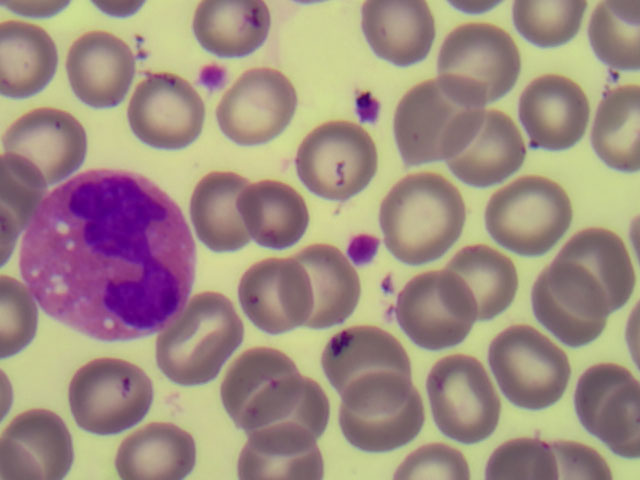Platelets: (343, 230, 384, 268), (353, 87, 385, 118), (197, 58, 228, 89)
RBC: (563, 356, 640, 439), (563, 229, 640, 312), (118, 396, 194, 480), (64, 26, 140, 109), (126, 70, 202, 153), (5, 102, 81, 185), (75, 353, 151, 436), (160, 295, 236, 378), (236, 254, 312, 337), (285, 242, 361, 325), (240, 172, 316, 255), (188, 166, 264, 249), (296, 127, 372, 210), (223, 70, 299, 153), (394, 81, 470, 164), (445, 18, 521, 101), (453, 109, 529, 192), (489, 175, 565, 258), (385, 173, 461, 256), (395, 266, 471, 349), (445, 244, 521, 327), (490, 325, 566, 408), (430, 355, 506, 438), (341, 371, 417, 454), (328, 318, 404, 401), (220, 341, 296, 424), (250, 374, 326, 457), (531, 263, 607, 346), (516, 72, 592, 155), (359, 2, 435, 85), (192, 1, 271, 64), (1, 414, 75, 480), (1, 20, 56, 100), (489, 431, 564, 480), (590, 92, 640, 165), (590, 1, 640, 72), (518, 1, 584, 45)
WBC: (18, 172, 196, 331)
